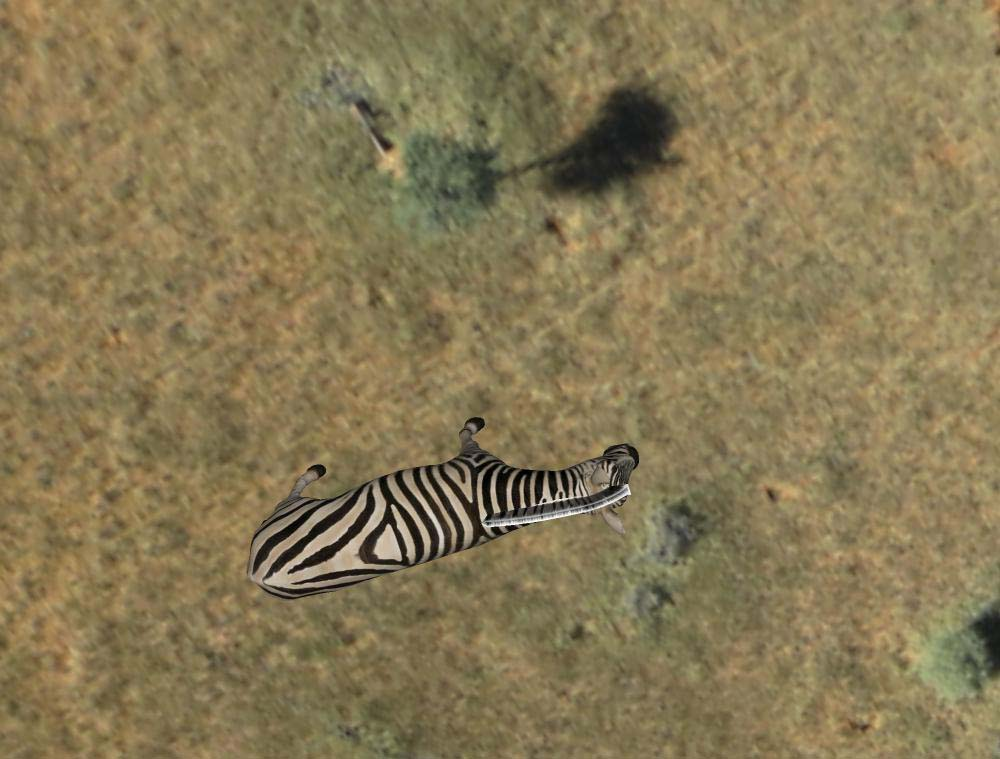zebra: (244, 405, 639, 615)
